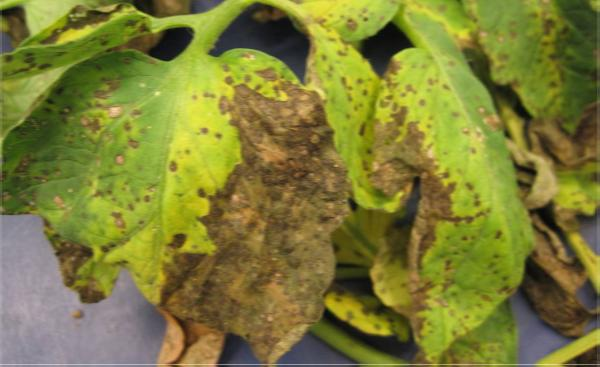Tomato Septoria leaf spot: (0, 47, 345, 366), (378, 24, 532, 353)
